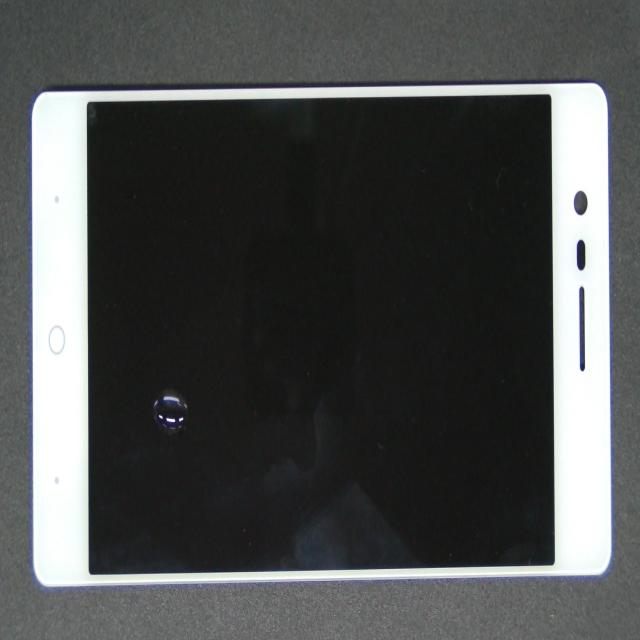oil: (133, 367, 204, 447)
